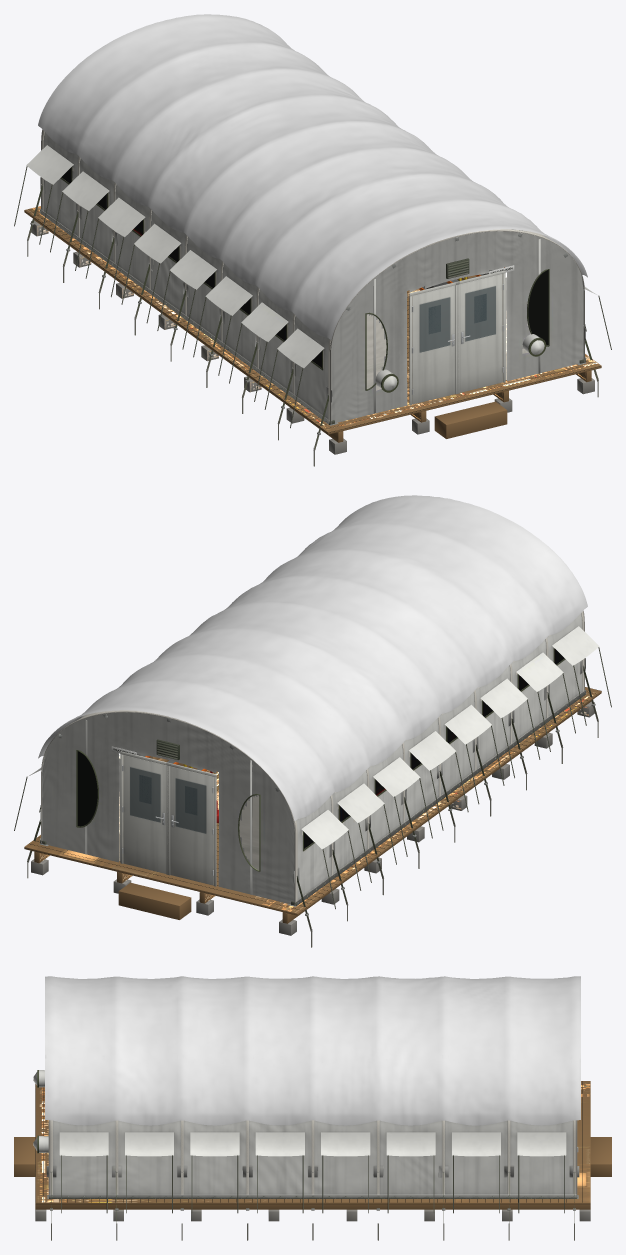
Rendered from series8-deployed-fitted-web.glb.
3 renders of one model, top to bottom at view 1: azimuth 30°, elevation 25°; view 2: azimuth 150°, elevation 25°; view 3: azimuth 270°, elevation 25°, orthographic. The views are drawn at different scales.
Parts seen in each view (by area): view 1: SERIES8_thermal_cap, SERIES8_shelter, SERIES8_floor; view 2: SERIES8_thermal_cap, SERIES8_shelter, SERIES8_floor; view 3: SERIES8_thermal_cap, SERIES8_shelter, SERIES8_floor.
Part boxes in pixels (left/top/right/bottom): SERIES8_thermal_cap: left=38, top=14, right=587, bottom=340; SERIES8_shelter: left=14, top=129, right=611, bottom=466; SERIES8_floor: left=24, top=206, right=601, bottom=454; SERIES8_thermal_cap: left=38, top=495, right=587, bottom=821; SERIES8_shelter: left=14, top=611, right=611, bottom=947; SERIES8_floor: left=24, top=687, right=601, bottom=935; SERIES8_thermal_cap: left=45, top=976, right=580, bottom=1125; SERIES8_shelter: left=33, top=1070, right=579, bottom=1240; SERIES8_floor: left=14, top=1081, right=611, bottom=1221.
Bounding box in the file's own units: 6.33 × 3.75 × 11.15.
68 materials, 23 textured.
